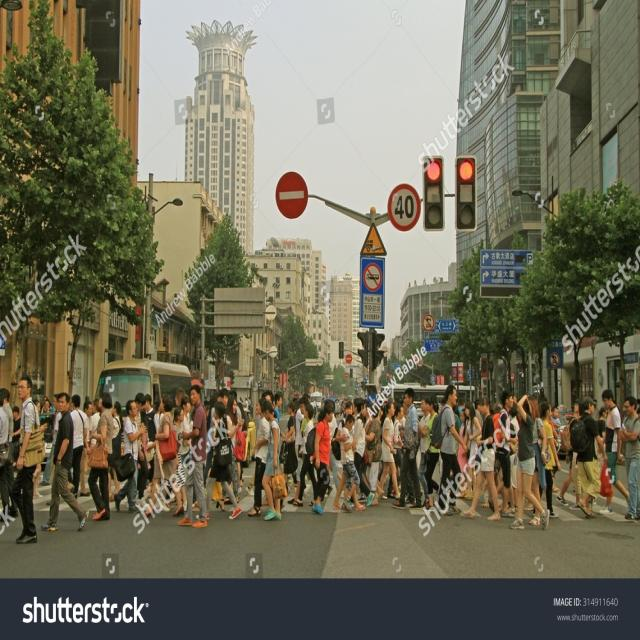body: (39, 391, 90, 531), (9, 374, 47, 545), (195, 400, 243, 522), (508, 392, 550, 531), (141, 392, 185, 518), (428, 383, 468, 518), (461, 396, 502, 522), (569, 397, 609, 519), (177, 382, 208, 528), (389, 387, 424, 511), (330, 399, 368, 512), (112, 398, 148, 515), (157, 405, 196, 513), (597, 388, 630, 515), (487, 388, 519, 518), (86, 390, 115, 523), (531, 399, 562, 519), (260, 399, 288, 521), (346, 396, 376, 508), (216, 393, 244, 512), (291, 402, 320, 508), (556, 402, 584, 508), (245, 391, 273, 497), (287, 396, 314, 505), (525, 394, 547, 526), (310, 402, 335, 516), (246, 398, 270, 515), (618, 394, 640, 521), (417, 395, 441, 509), (38, 393, 63, 487), (379, 401, 402, 501), (363, 402, 385, 506), (339, 412, 361, 514), (68, 394, 89, 499), (282, 391, 363, 417), (461, 400, 482, 500), (278, 400, 300, 494), (323, 398, 343, 498), (568, 398, 585, 512), (133, 391, 149, 508), (140, 393, 160, 486), (106, 400, 124, 502), (386, 405, 404, 499), (418, 397, 432, 508), (0, 389, 12, 512), (33, 399, 47, 499), (179, 394, 192, 492), (79, 400, 92, 497), (0, 387, 15, 466), (456, 407, 468, 498), (594, 404, 608, 476), (164, 484, 199, 511), (474, 398, 484, 477), (8, 406, 22, 462), (89, 398, 102, 451), (548, 406, 562, 454), (39, 398, 53, 443), (229, 390, 254, 411), (204, 390, 216, 430), (203, 442, 213, 489), (154, 400, 164, 435), (456, 396, 466, 428), (274, 392, 282, 423), (174, 388, 186, 408), (43, 396, 55, 412), (636, 397, 640, 418), (489, 407, 494, 418)
